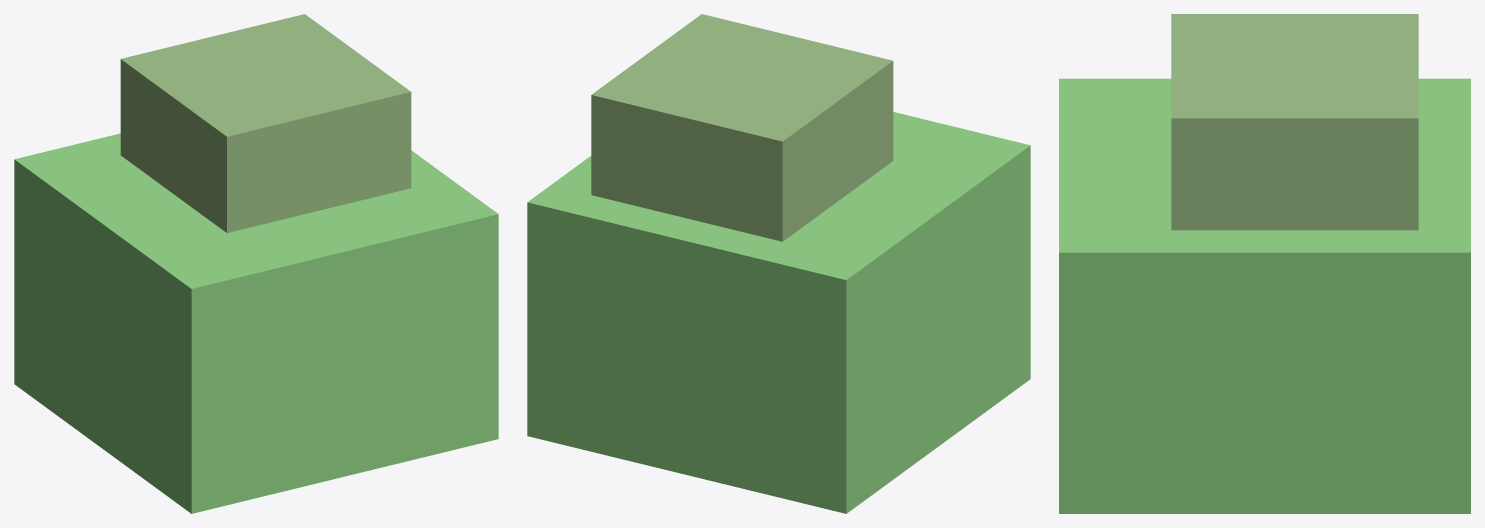
The model's file is Prop_Dress_AMF_Bush_V2.glb.
3 renders of one model, left to right at view 1: azimuth 30°, elevation 25°; view 2: azimuth 150°, elevation 25°; view 3: azimuth 270°, elevation 25°, orthographic. The views are drawn at different scales.
Visible parts, largest first — view 1: Prop_Dress_AMF_Bush_V2; view 2: Prop_Dress_AMF_Bush_V2; view 3: Prop_Dress_AMF_Bush_V2.
Part boxes in pixels (<box>): Prop_Dress_AMF_Bush_V2: <box>14,14,498,513</box>; Prop_Dress_AMF_Bush_V2: <box>527,14,1030,513</box>; Prop_Dress_AMF_Bush_V2: <box>1059,14,1470,513</box>.
Size of the model in its own units: 1.37 by 1.37 by 1.37.
